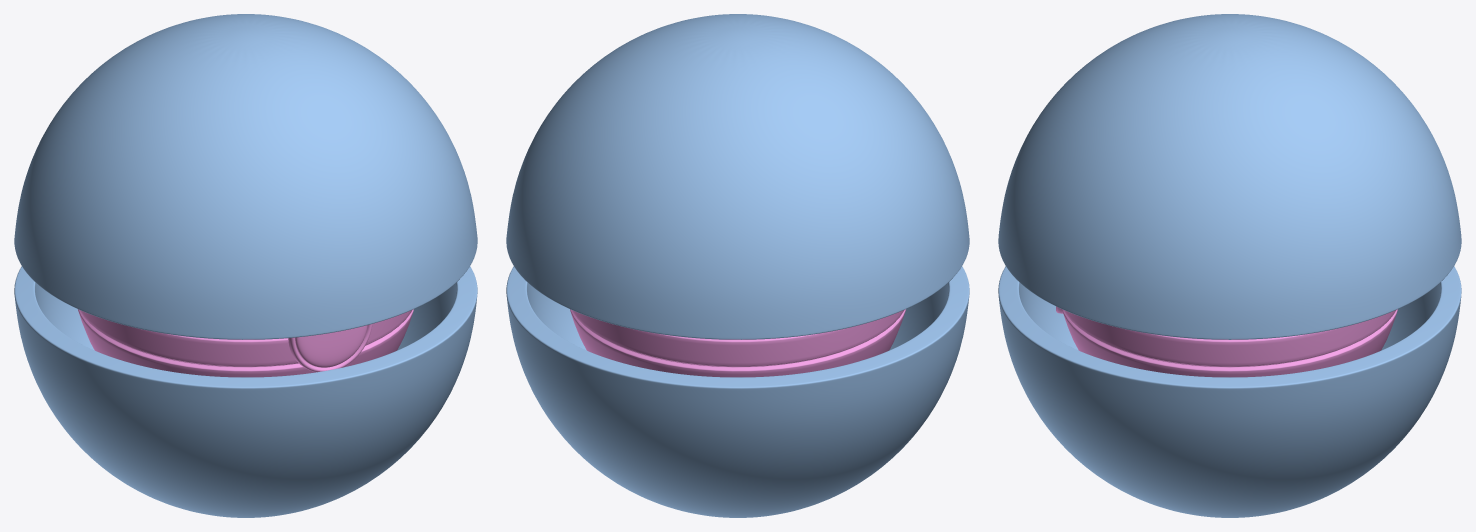
The model's file is ikonthreejs.glb.
3 renders of one model, left to right at view 1: azimuth 30°, elevation 25°; view 2: azimuth 150°, elevation 25°; view 3: azimuth 270°, elevation 25°, orthographic.
Parts seen in each view (by area): view 1: Sphere001, Sphere002, Sphere003, Object001, VISOR; view 2: Sphere001, Sphere002, Sphere003; view 3: Sphere001, Sphere002, Sphere003.
Part boxes in pixels (<box>): Sphere001: <box>14,14,477,339</box>; Sphere002: <box>14,266,477,517</box>; Sphere003: <box>78,309,413,377</box>; Object001: <box>295,325,367,367</box>; VISOR: <box>288,324,372,372</box>; Sphere001: <box>506,14,969,339</box>; Sphere002: <box>506,266,969,517</box>; Sphere003: <box>570,309,905,377</box>; Sphere001: <box>998,14,1461,339</box>; Sphere002: <box>998,266,1461,517</box>; Sphere003: <box>1063,309,1397,377</box>.
Bounding box in the file's own units: 2.02 × 2.22 × 2.02.
